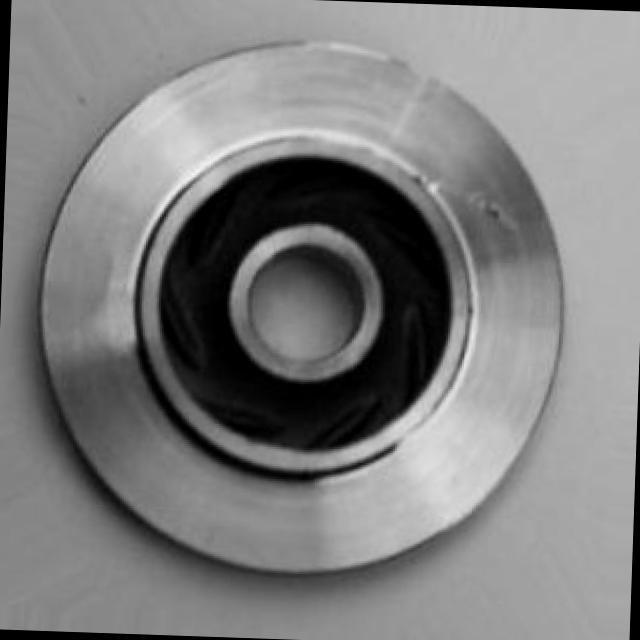Defect: (476, 190, 510, 243)
